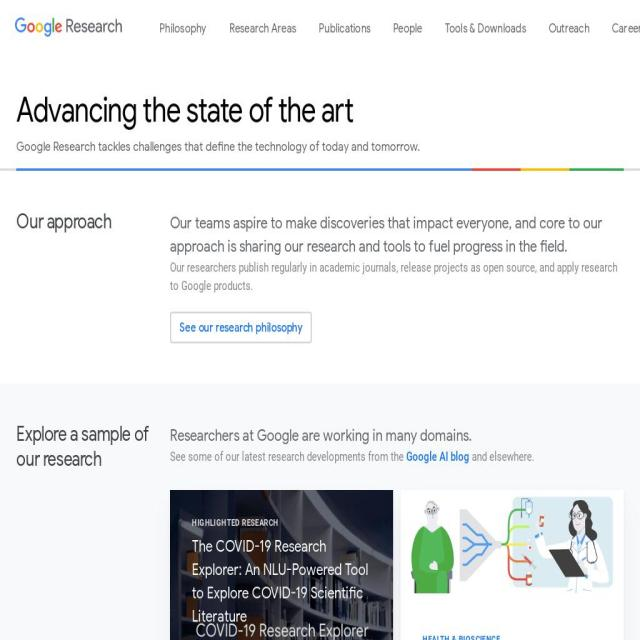button: (170, 489, 393, 640), (401, 489, 624, 640), (170, 311, 312, 343), (444, 3, 526, 54), (229, 3, 296, 54), (318, 3, 371, 54), (159, 3, 207, 54), (548, 3, 590, 54), (393, 3, 423, 54), (611, 3, 640, 54)
heading: (16, 92, 624, 130), (16, 208, 162, 341), (16, 421, 162, 472)
image: (170, 489, 393, 640), (401, 489, 624, 607), (15, 16, 122, 38)
link: (406, 448, 470, 464), (422, 633, 500, 640)
text: (170, 211, 624, 258), (170, 257, 624, 295), (192, 534, 371, 628), (16, 138, 624, 158), (170, 423, 624, 448), (170, 448, 407, 464), (192, 518, 371, 528), (469, 448, 535, 464)
